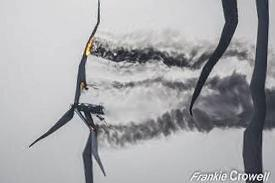faulty: (73, 29, 117, 153)
